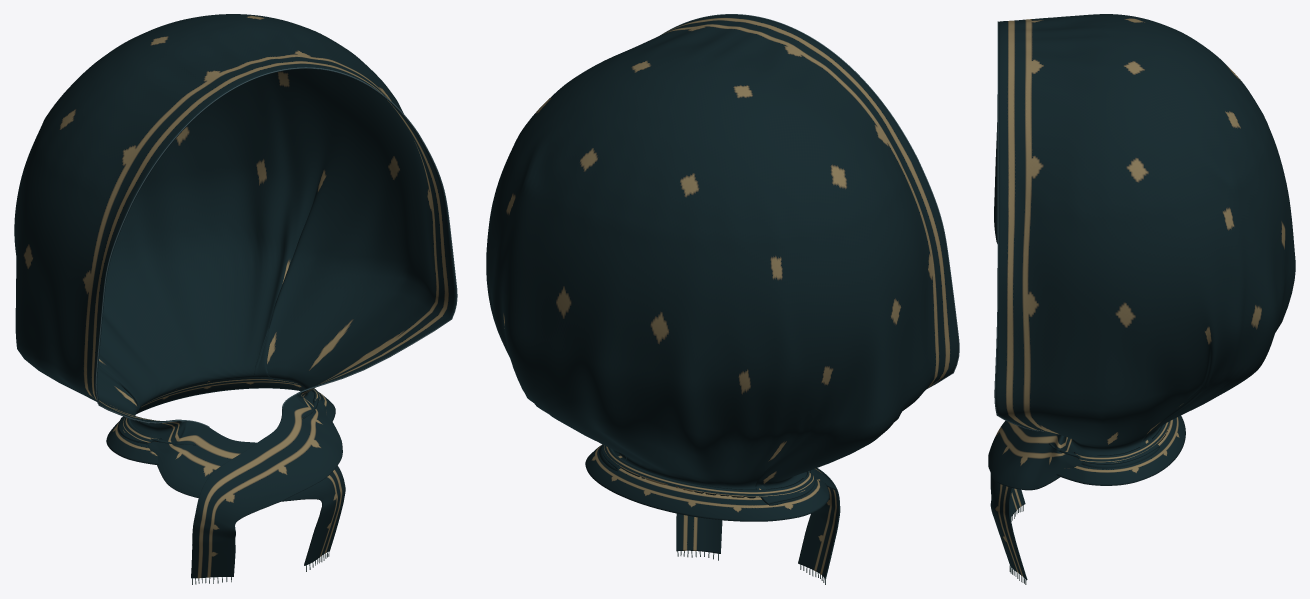
Rendered from Feminine-jersey-pashmina239-headgear.glb.
The picture shows the model from 3 angles, left to right: view 1: azimuth 30°, elevation 25°; view 2: azimuth 150°, elevation 25°; view 3: azimuth 270°, elevation 25°; orthographic projection. The views are drawn at different scales.
Parts seen in each view (by area): view 1: 226 headgear / Headwear / continuous woven pashmina239, 226 headgear / Headwear / face edge239; view 2: 226 headgear / Headwear / continuous woven pashmina239, 226 headgear / Headwear / face edge239; view 3: 226 headgear / Headwear / continuous woven pashmina239, 226 headgear / Headwear / face edge239.
Part boxes in pixels (x1,y1,x2,y2): 226 headgear / Headwear / continuous woven pashmina239: (14, 14, 456, 578); 226 headgear / Headwear / face edge239: (95, 67, 457, 427); 226 headgear / Headwear / continuous woven pashmina239: (486, 14, 958, 578); 226 headgear / Headwear / face edge239: (661, 14, 959, 388); 226 headgear / Headwear / continuous woven pashmina239: (988, 14, 1295, 580); 226 headgear / Headwear / face edge239: (994, 21, 1044, 431).
Size of the model in its own units: 1.02 by 1.35 by 0.7252.
3 materials, 1 textured.
